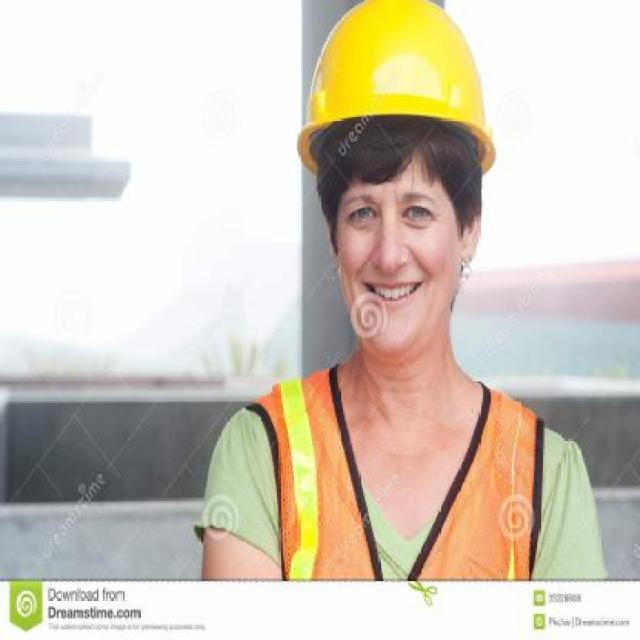helmet: (299, 6, 502, 158)
vest: (248, 386, 540, 597)
